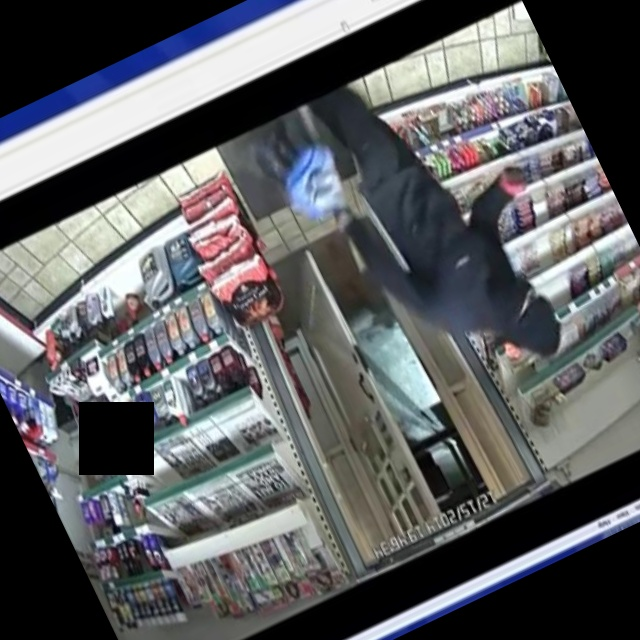gun: (494, 146, 572, 222)
